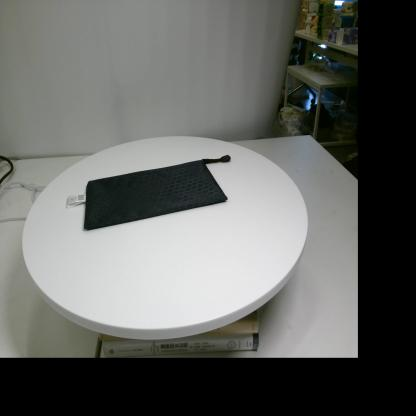Stationery: (66, 155, 231, 230)
